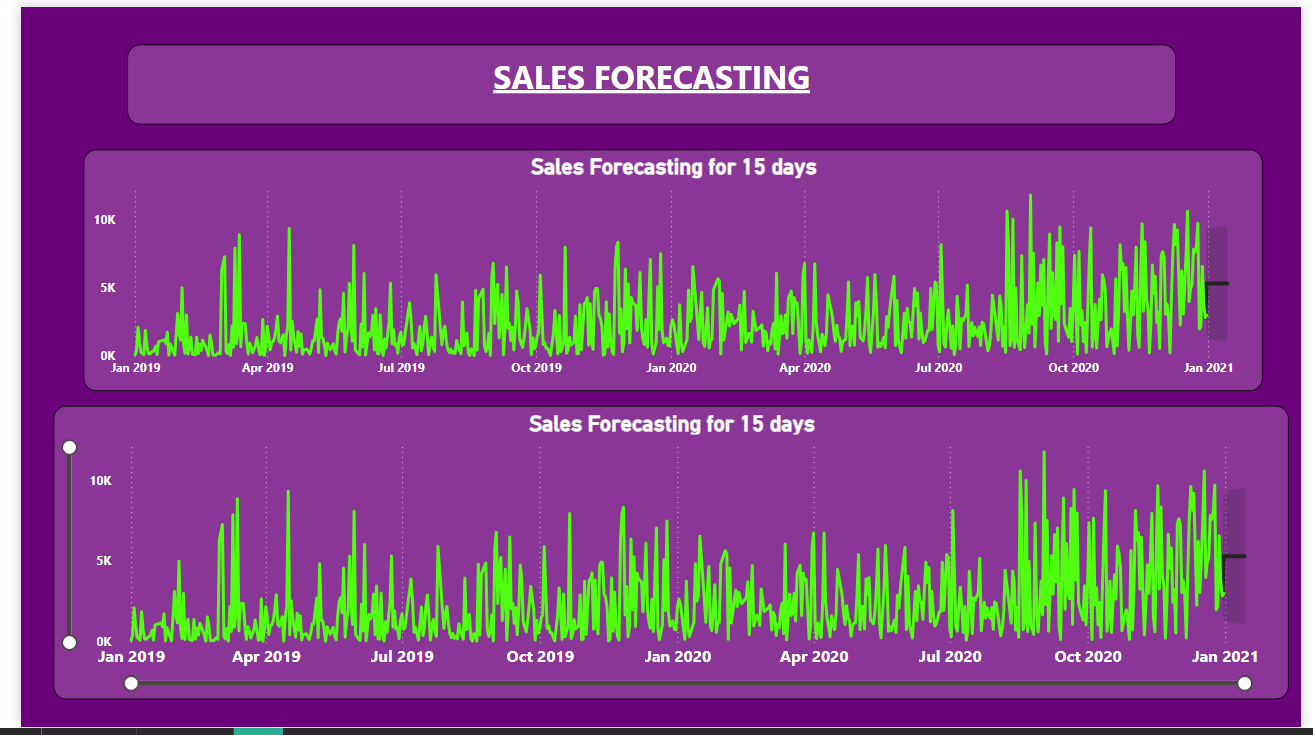

What the dashboard file says about the page in this screenshot:
{"tool":"powerbi","page":{"name":"Page 2","canvas":[1280,720],"ordinal":1},"visuals":[{"type":"lineChart","title":"Sales Forecasting for 15 days","fields":{"Y":["Sum(SuperStore_Sales_Dataset.Sales)"],"Category":["SuperStore_Sales_Dataset.Order Date.Variation.Date Hierarchy.Year","SuperStore_Sales_Dataset.Order Date.Variation.Date Hierarchy.Quarter","SuperStore_Sales_Dataset.Order Date.Variation.Date Hierarchy.Month","SuperStore_Sales_Dataset.Order Date.Variation.Date Hierarchy.Day"]},"box":[62.6,142.3,1179.1,241.7],"z":0},{"type":"lineChart","title":"Sales Forecasting for 15 days","fields":{"Y":["Sum(SuperStore_Sales_Dataset.Sales)"],"Category":["SuperStore_Sales_Dataset.Order Date.Variation.Date Hierarchy.Year","SuperStore_Sales_Dataset.Order Date.Variation.Date Hierarchy.Quarter","SuperStore_Sales_Dataset.Order Date.Variation.Date Hierarchy.Month","SuperStore_Sales_Dataset.Order Date.Variation.Date Hierarchy.Day"]},"box":[31.9,398.8,1235.6,293.3],"z":1},{"type":"textbox","box":[106.7,38,1049.1,79.8],"z":2}]}

Visuals, with their boxes in screenshot pixels (x1, y1, x2, y2), scaled from the page's 1280x720 canvas onto the 1313x735 screenshot:
"Sales Forecasting for 15 days" lineChart: detection(64, 145, 1274, 392)
"Sales Forecasting for 15 days" lineChart: detection(33, 407, 1300, 707)
textbox: detection(109, 39, 1186, 120)
